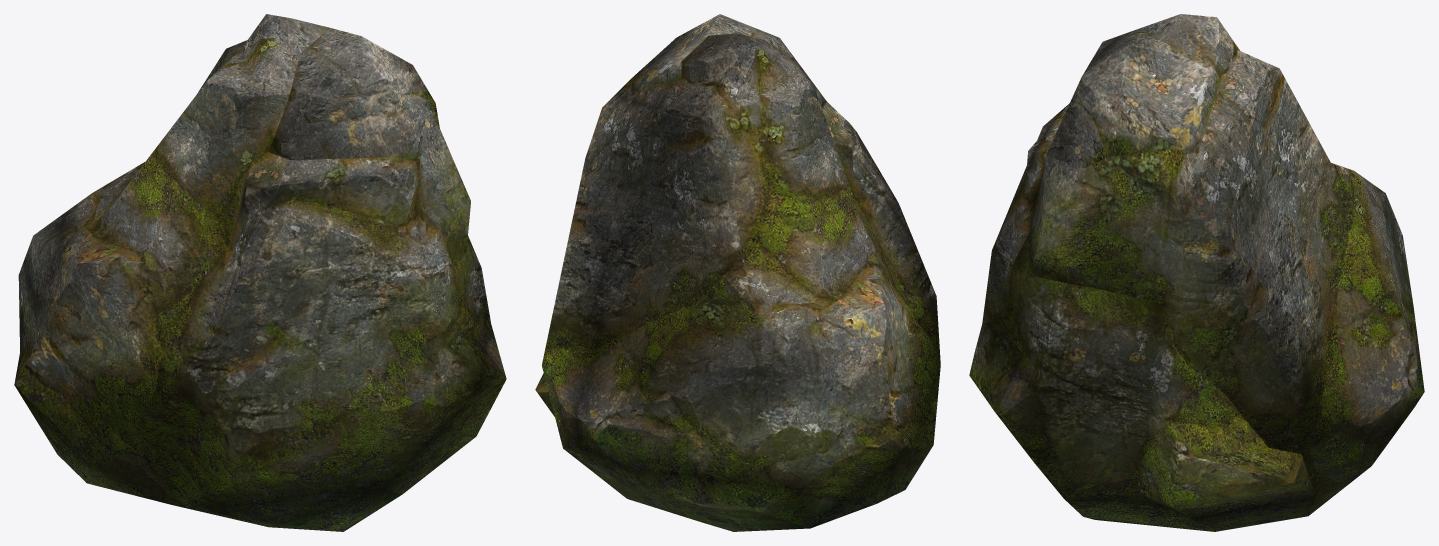
The model's file is Rock04_lod1.glb.
3 renders of one model, left to right at view 1: azimuth 30°, elevation 25°; view 2: azimuth 150°, elevation 25°; view 3: azimuth 270°, elevation 25°, orthographic. The views are drawn at different scales.
Visible parts, largest first — view 1: common_rock04_lod1; view 2: common_rock04_lod1; view 3: common_rock04_lod1.
Boxes of the visible parts, x1,y1,x2,y2 form: common_rock04_lod1: (14, 14, 506, 531); common_rock04_lod1: (535, 14, 940, 531); common_rock04_lod1: (969, 14, 1424, 531).
Bounding box in the file's own units: 2.94 × 3.39 × 2.79.
Materials: 1 (1 with a texture image).
